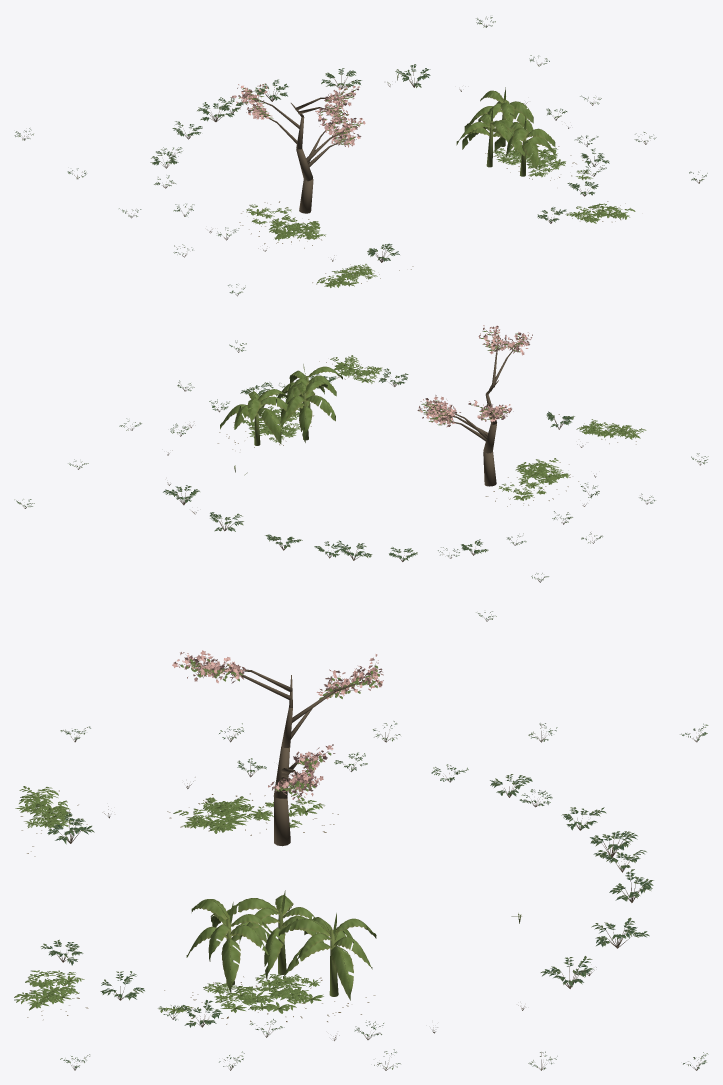
The model's file is yihongyuan.glb.
3 renders of one model, top to bottom at view 1: azimuth 30°, elevation 25°; view 2: azimuth 150°, elevation 25°; view 3: azimuth 270°, elevation 25°, orthographic. The views are drawn at different scales.
Visible parts, largest first — view 1: Mobile_yihongyuan_plants, Mobile_yihongyuan_botanical_bamboo, Mobile_yihongyuan_botanical_banana, Mobile_yihongyuan_botanical_petal, Mobile_yihongyuan_botanical_stem; view 2: Mobile_yihongyuan_plants, Mobile_yihongyuan_botanical_bamboo, Mobile_yihongyuan_botanical_banana, Mobile_yihongyuan_botanical_petal, Mobile_yihongyuan_botanical_stem; view 3: Mobile_yihongyuan_plants, Mobile_yihongyuan_botanical_bamboo, Mobile_yihongyuan_botanical_banana, Mobile_yihongyuan_botanical_petal, Mobile_yihongyuan_botanical_stem.
Boxes of the visible parts, bbox=[...] form: Mobile_yihongyuan_plants: bbox=[14, 16, 707, 296]; Mobile_yihongyuan_botanical_bamboo: bbox=[238, 87, 635, 287]; Mobile_yihongyuan_botanical_banana: bbox=[456, 87, 555, 168]; Mobile_yihongyuan_botanical_petal: bbox=[231, 83, 365, 147]; Mobile_yihongyuan_botanical_stem: bbox=[361, 90, 549, 273]; Mobile_yihongyuan_plants: bbox=[14, 330, 708, 621]; Mobile_yihongyuan_botanical_bamboo: bbox=[241, 331, 646, 500]; Mobile_yihongyuan_botanical_banana: bbox=[220, 364, 342, 444]; Mobile_yihongyuan_botanical_petal: bbox=[417, 325, 532, 427]; Mobile_yihongyuan_botanical_stem: bbox=[226, 363, 596, 445]; Mobile_yihongyuan_plants: bbox=[41, 658, 708, 1070]; Mobile_yihongyuan_botanical_bamboo: bbox=[14, 659, 381, 1013]; Mobile_yihongyuan_botanical_banana: bbox=[186, 890, 376, 1000]; Mobile_yihongyuan_botanical_petal: bbox=[172, 650, 383, 800]; Mobile_yihongyuan_botanical_stem: bbox=[26, 795, 369, 1007].
Size of the model in its own units: 31.35 by 8.4 by 26.83.
6 materials, 5 textured.
